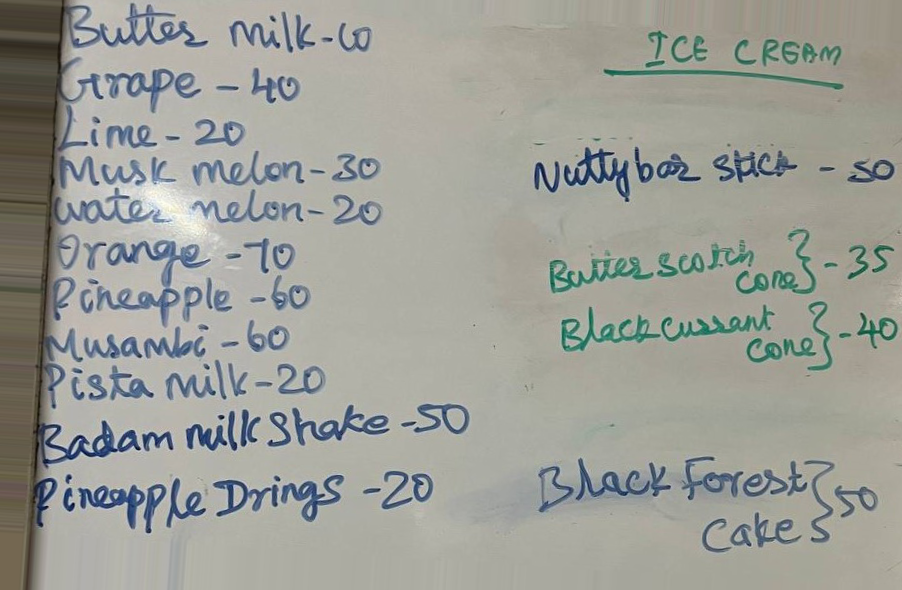badam milkshake - 50: (35, 399, 471, 470)
black current cone - 40: (556, 295, 902, 373)
black forest cake - 50: (536, 453, 884, 558)
butter milk - 10: (64, 6, 374, 54)
butterscotch cone - 35: (549, 230, 902, 297)
grape - 40: (55, 55, 303, 107)
lime - 20: (50, 102, 253, 153)
musambi - 60: (46, 320, 294, 363)
musk melon - 30: (55, 151, 388, 193)
nutty bar - 30: (527, 142, 899, 195)
orange - 70: (53, 228, 305, 275)
pineapple - 60: (49, 273, 318, 325)
pineapple drink - 20: (32, 475, 433, 523)
pista milk - 20: (40, 362, 331, 404)
water melon - 20: (50, 187, 388, 233)
